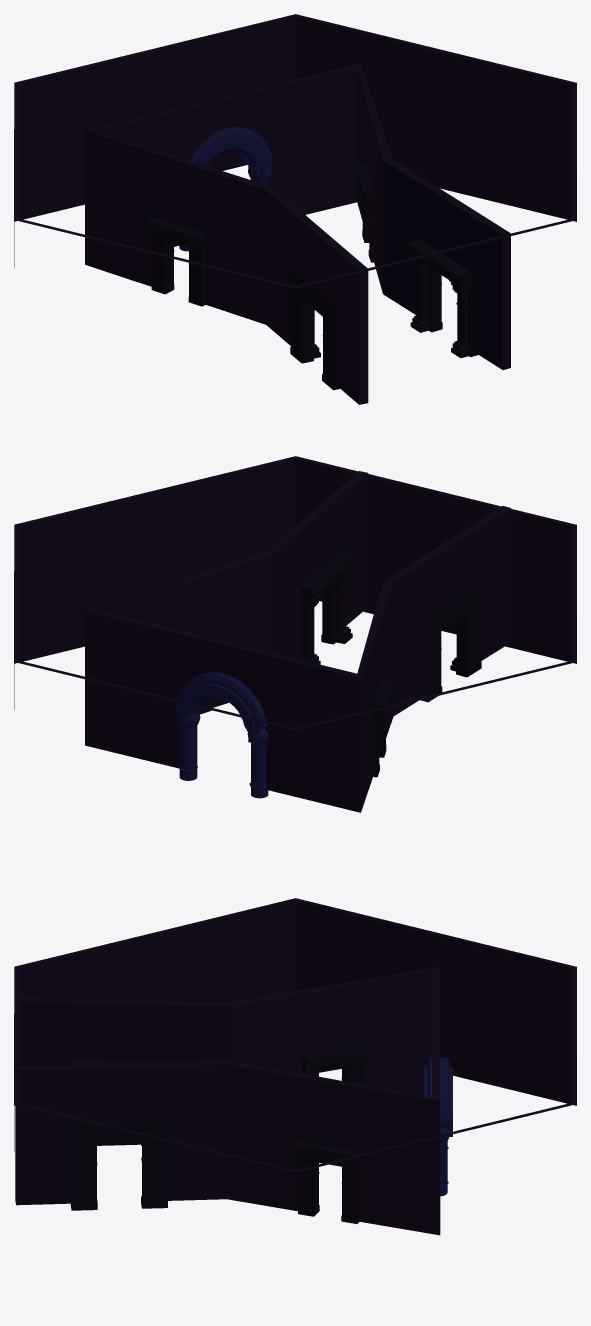
The model's file is Walls.gltf.
3 views of the same model, one above another, from view 1: azimuth 30°, elevation 25°; view 2: azimuth 150°, elevation 25°; view 3: azimuth 270°, elevation 25° (orthographic).
Visible parts, largest first — view 1: ParedesInternas, ParedesExternas, PuertasSecundarias, PuertasTerciarias, MainEntrance; view 2: ParedesInternas, ParedesExternas, PuertasSecundarias, MainEntrance, PuertasTerciarias; view 3: ParedesInternas, ParedesExternas, PuertasSecundarias, PuertasTerciarias, MainEntrance.
Boxes of the visible parts, x1,y1,x2,y2 form: ParedesInternas: (85,63,510,404); ParedesExternas: (14,14,576,288); PuertasSecundarias: (290,239,478,390); PuertasTerciarias: (146,164,373,306); MainEntrance: (179,127,272,251); ParedesInternas: (85,471,510,812); ParedesExternas: (14,456,576,730); PuertasSecundarias: (300,550,481,702); MainEntrance: (174,672,268,798); PuertasTerciarias: (199,678,394,777); ParedesInternas: (15,966,440,1235); ParedesExternas: (14,898,576,1172); PuertasSecundarias: (70,1059,168,1210); PuertasTerciarias: (295,1046,366,1223); MainEntrance: (424,1057,452,1196).
Size of the model in its own units: 30.18 by 7.26 by 26.15.
Materials: 5 (5 with a texture image).
